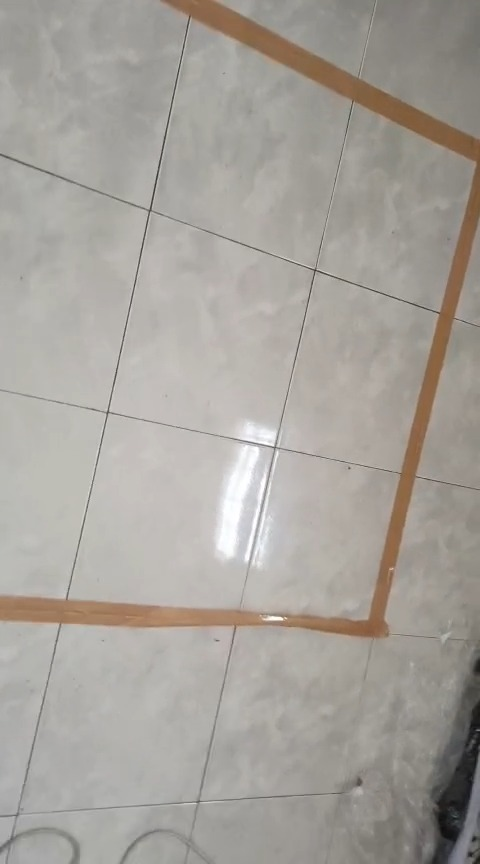floor marking: (0, 0, 479, 637)
